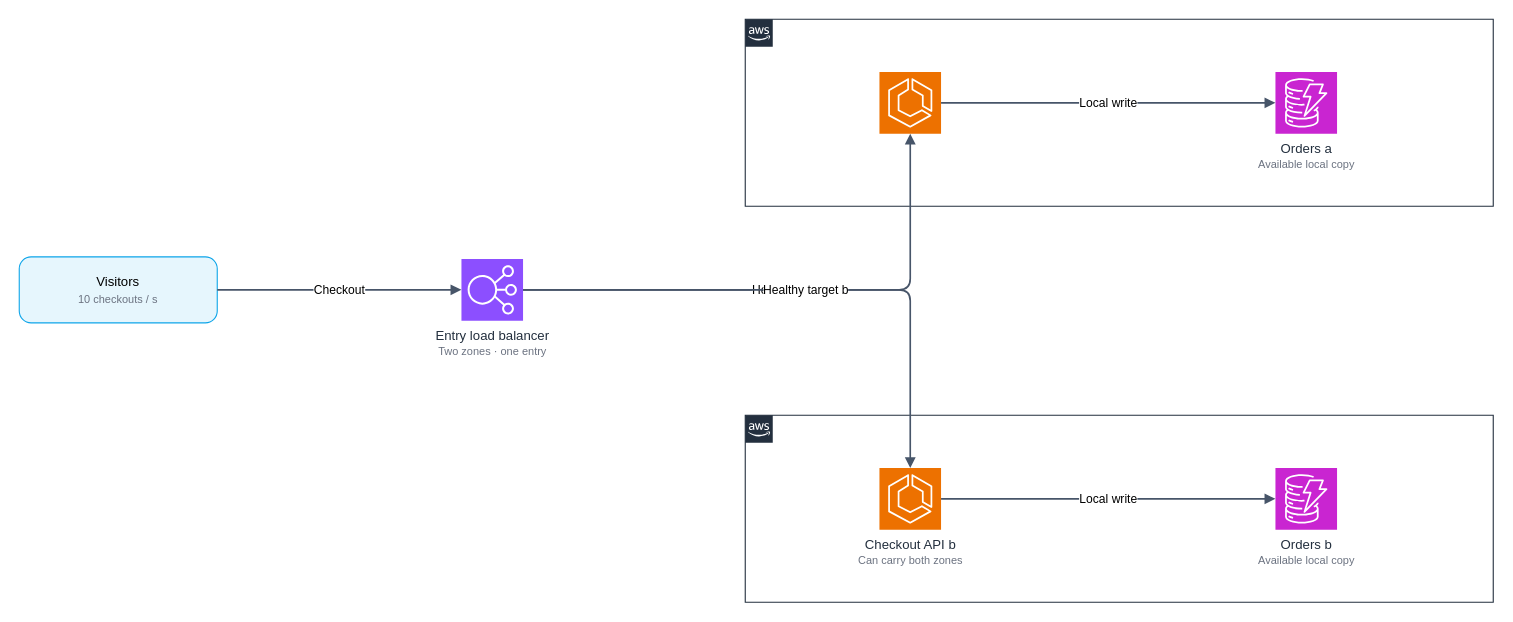
Image size: 1513x622. Some labels were removed from this diagram. Here are the shapes that lost their labels. From the top down, the box of each, then its label:
(878, 71, 941, 134): Checkout API a Can carry both zones
(744, 18, 1493, 206): Zone a
(744, 414, 1493, 602): Zone b
